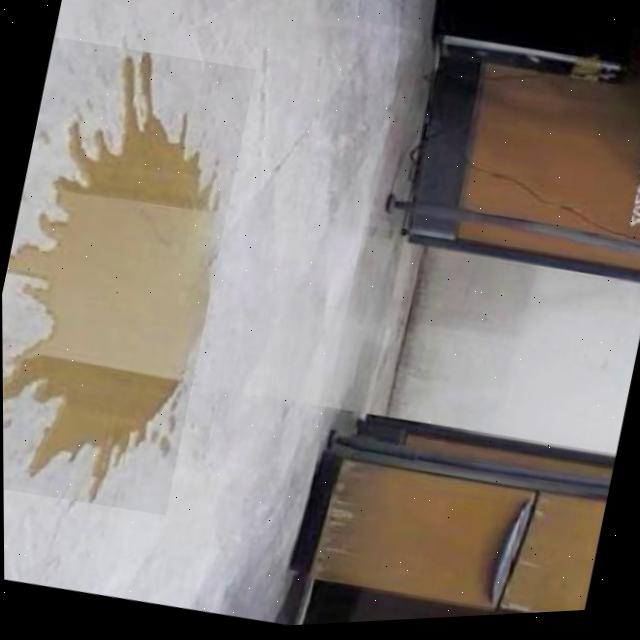spillage: (2, 52, 210, 503)
